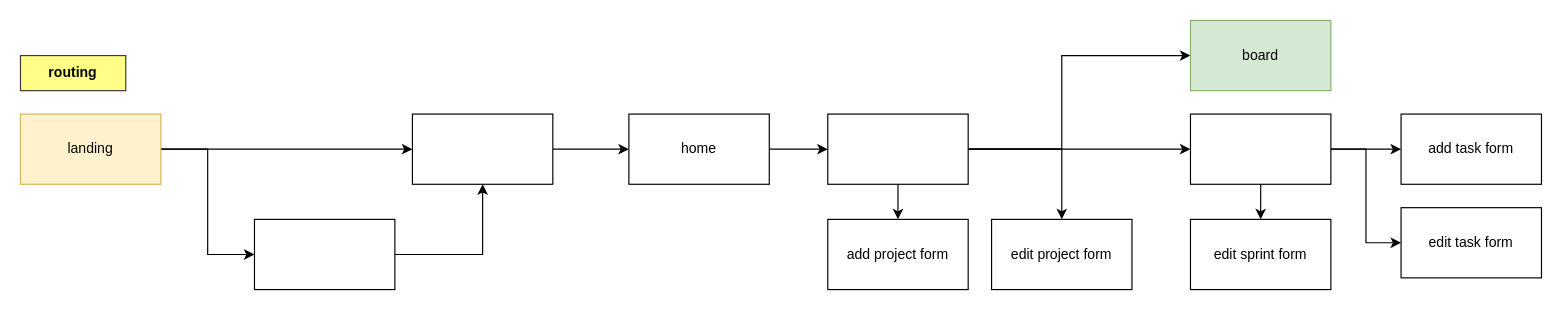
The diagram is 1562 pixels wide and 310 high, and some of its shapes have lost their labels. The shapes that lost their labels are listed below. From the top down, each one's box as (x1, y1, x2, y2) in pixels, then its label:
(411, 113, 553, 184): login
(827, 113, 968, 184): projects
(1189, 113, 1331, 184): backlog
(253, 218, 395, 290): register
